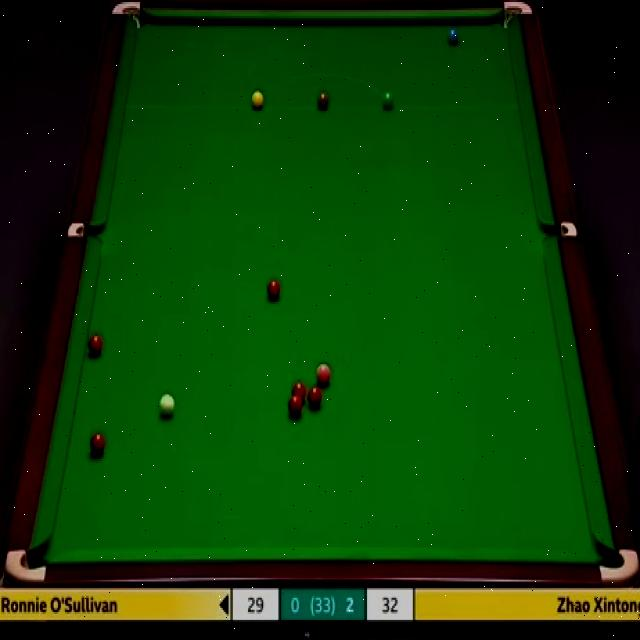blue-ball: (448, 27, 458, 48)
brown-ball: (316, 93, 330, 109)
green-ball: (382, 89, 396, 112)
pink-ball: (316, 362, 332, 386)
red-ball: (85, 333, 104, 358), (90, 430, 106, 457), (307, 386, 323, 410), (292, 380, 306, 404), (265, 279, 281, 299), (288, 394, 302, 416)
white-ball: (157, 392, 177, 418)
yellow-ball: (250, 90, 265, 110)
